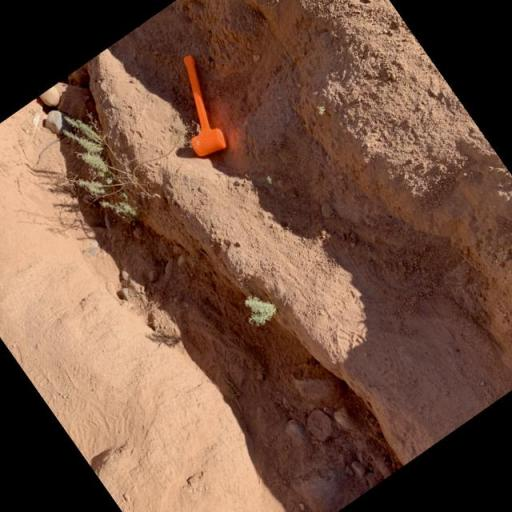mallet: (143, 48, 248, 166)
